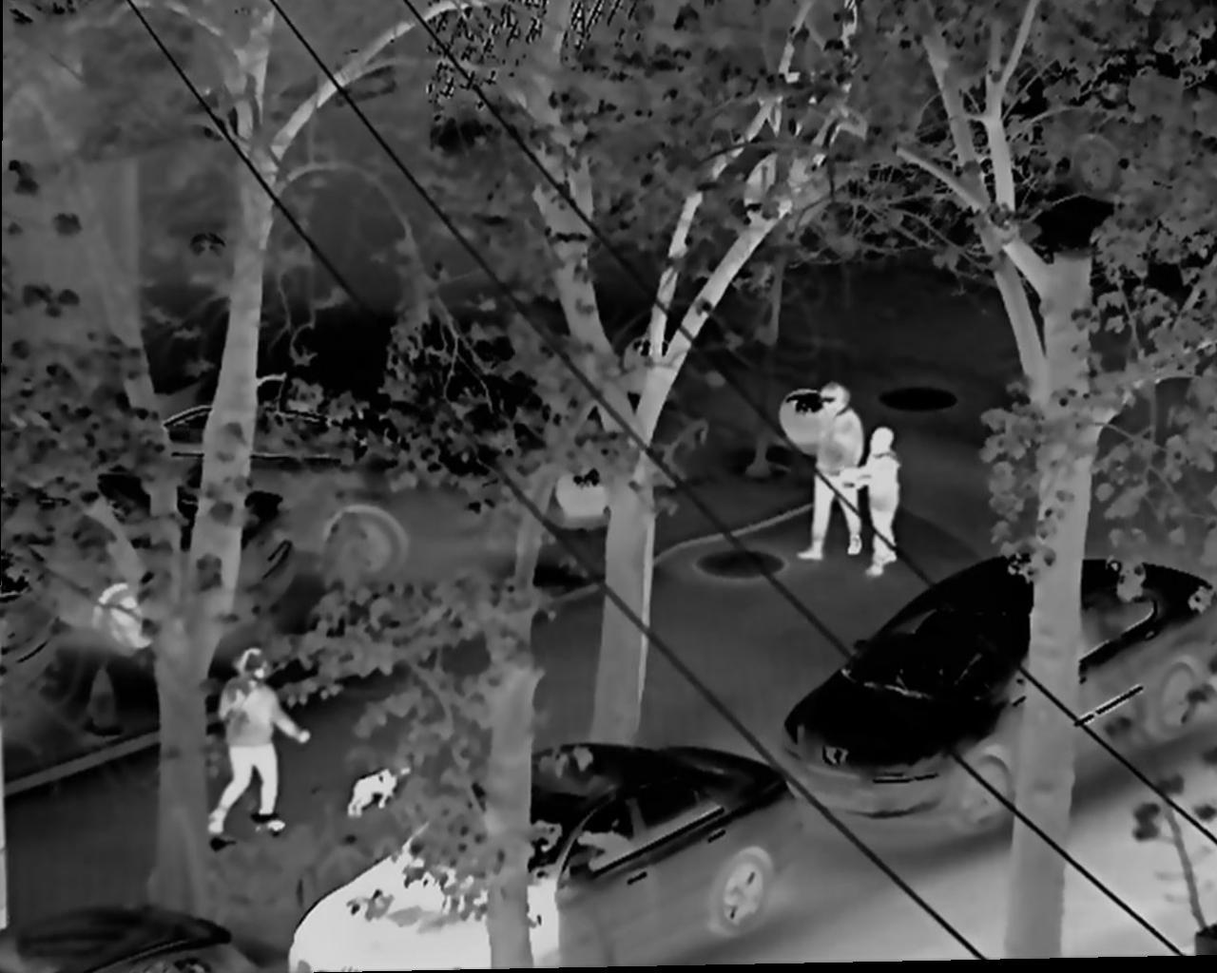person: (210, 647, 310, 834), (797, 379, 864, 560), (864, 427, 900, 574)
